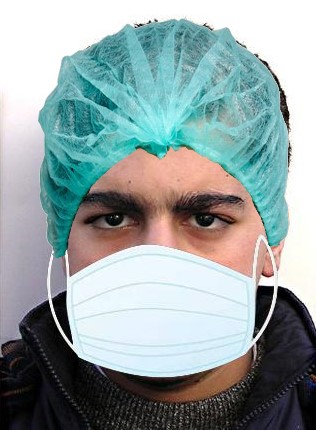with_mask_and_cap: (47, 24, 283, 381)
